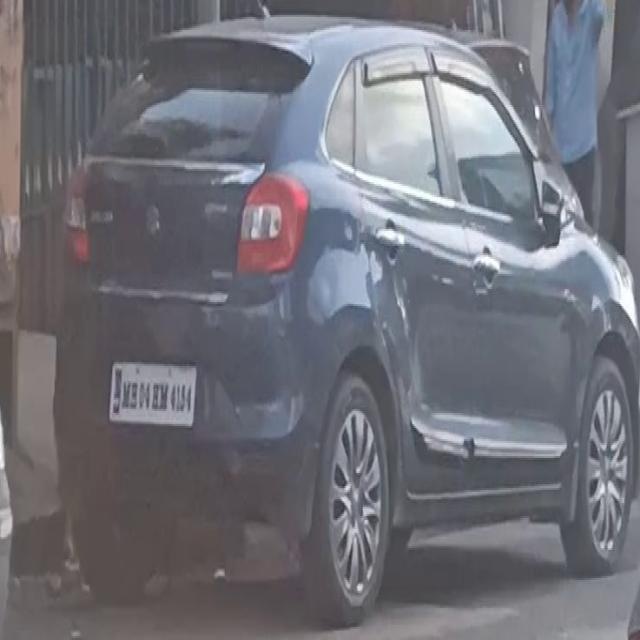plate: (108, 357, 197, 428)
